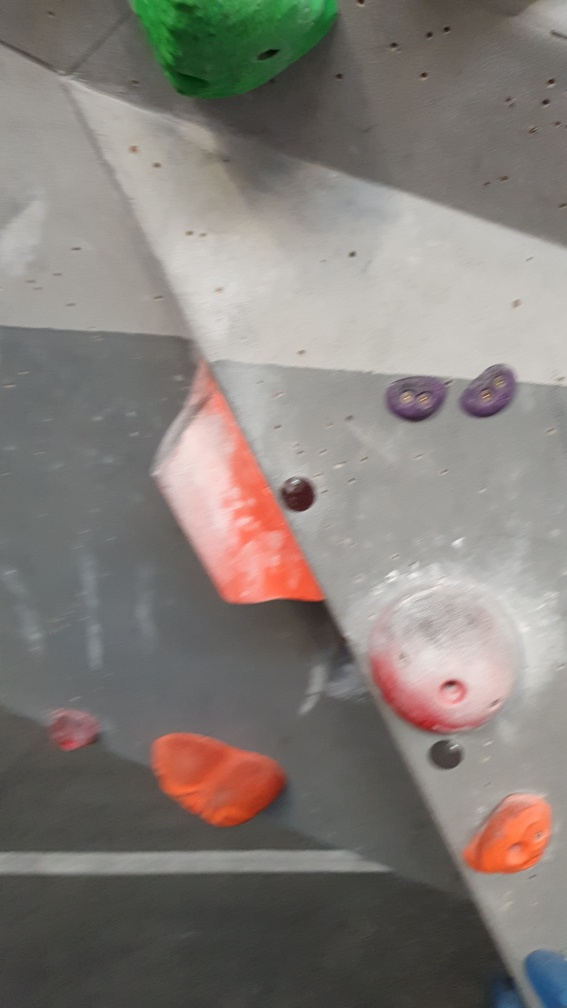Hand Start: (282, 475, 321, 519), (428, 734, 469, 775)
Pinch: (150, 362, 327, 609)
Sloper: (364, 581, 523, 734)
